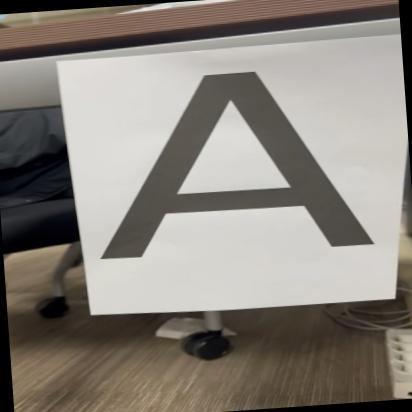seat: (82, 51, 393, 270)
